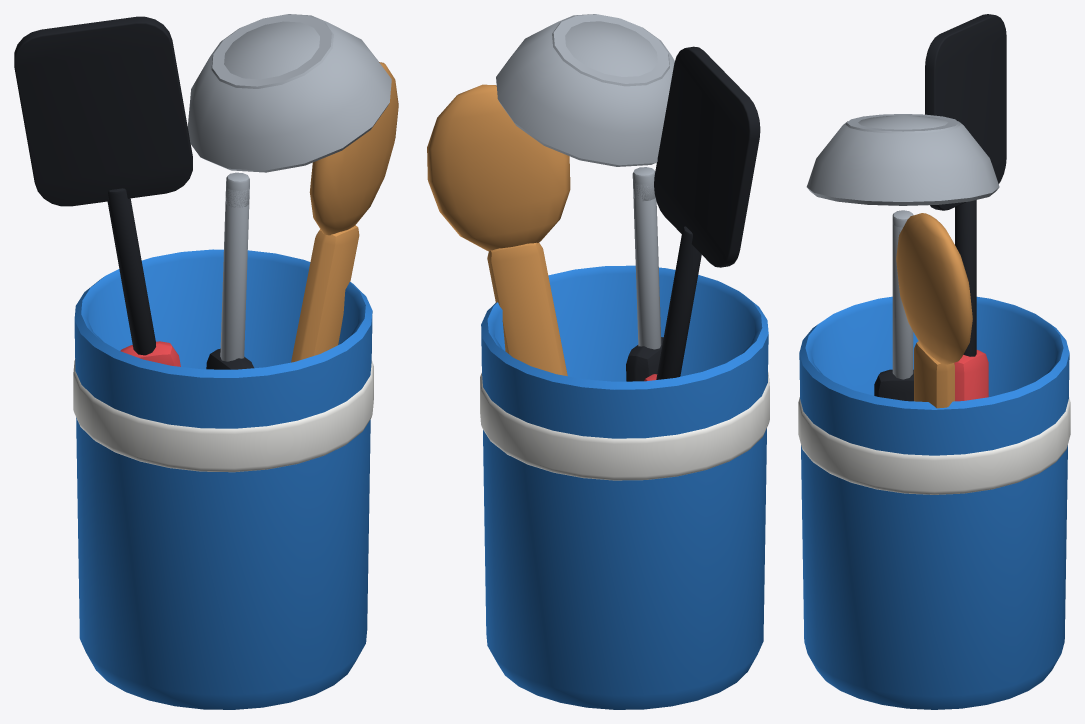
The model's file is porta_utensilios.glb.
The picture shows the model from 3 angles, left to right: view 1: azimuth 30°, elevation 25°; view 2: azimuth 150°, elevation 25°; view 3: azimuth 270°, elevation 25°; orthographic projection. The views are drawn at different scales.
Visible parts, largest first — view 1: porta_utensilios; view 2: porta_utensilios; view 3: porta_utensilios.
Part boxes in pixels (x1=…): porta_utensilios: x1=14, y1=14, x2=398, y2=709; porta_utensilios: x1=427, y1=14, x2=769, y2=709; porta_utensilios: x1=798, y1=14, x2=1070, y2=709.
Size of the model in its own units: 0.1569 by 0.2701 by 0.113.
1 material, 1 textured.
